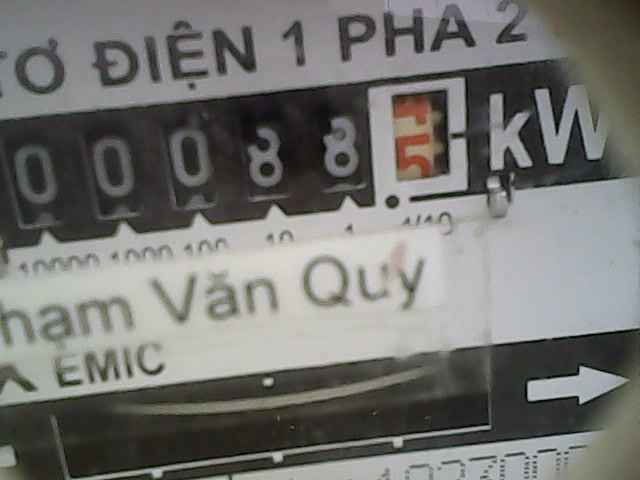phy_plate: (1, 72, 475, 216)
